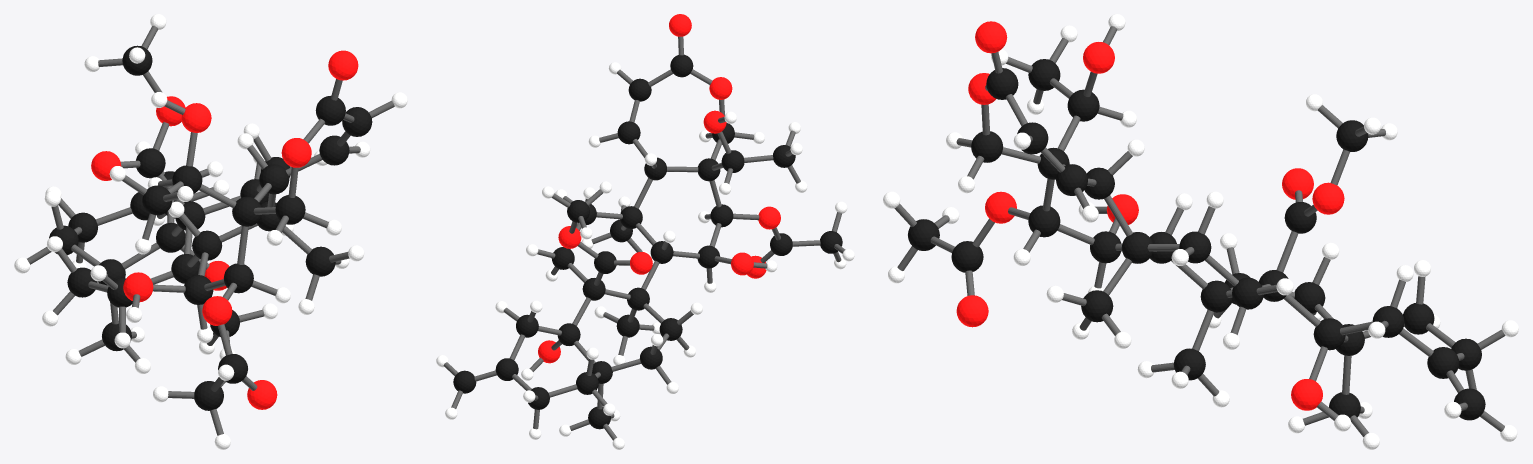
Rendered from molecule.glb.
The picture shows the model from 3 angles, left to right: view 1: azimuth 30°, elevation 25°; view 2: azimuth 150°, elevation 25°; view 3: azimuth 270°, elevation 25°; orthographic projection. The views are drawn at different scales.
Visible parts, largest first — view 1: geometry_25, geometry_23, geometry_14, geometry_21, geometry_34, geometry_24, geometry_17, geometry_30, geometry_12, geometry_27, geometry_16, geometry_28 (+22 smaller); view 2: geometry_12, geometry_25, geometry_23, geometry_35, geometry_24, geometry_14, geometry_26, geometry_0, geometry_27; view 3: geometry_17, geometry_25, geometry_36, geometry_21, geometry_39, geometry_15, geometry_1, geometry_14, geometry_24, geometry_8, geometry_3, geometry_29 (+21 smaller).
Part boxes in pixels (box(x1,y1,x2,y2)): geometry_25: box(328, 50, 358, 80); geometry_23: box(281, 138, 311, 167); geometry_14: box(202, 296, 232, 325); geometry_21: box(181, 103, 211, 132); geometry_34: box(136, 148, 165, 178); geometry_24: box(315, 96, 345, 125); geometry_17: box(247, 380, 277, 409); geometry_30: box(305, 246, 335, 276); geometry_12: box(123, 272, 153, 301); geometry_27: box(319, 135, 349, 165); geometry_16: box(194, 381, 223, 410); geometry_28: box(259, 164, 289, 194); geometry_12: box(731, 252, 753, 275); geometry_25: box(669, 14, 691, 36); geometry_23: box(709, 77, 732, 99); geometry_35: box(630, 252, 652, 274); geometry_24: box(670, 54, 693, 77); geometry_14: box(758, 206, 780, 229); geometry_26: box(628, 78, 651, 101); geometry_0: box(453, 370, 476, 393); geometry_27: box(617, 121, 640, 144); geometry_17: box(956, 295, 988, 327); geometry_25: box(975, 21, 1007, 53); geometry_36: box(1312, 182, 1344, 214); geometry_21: box(1083, 42, 1114, 73); geometry_39: box(1291, 379, 1322, 410); geometry_15: box(951, 241, 983, 272); geometry_1: box(1427, 347, 1459, 378); geometry_14: box(985, 191, 1016, 223); geometry_24: box(986, 68, 1018, 99); geometry_8: box(1200, 280, 1232, 312); geometry_3: box(1403, 303, 1434, 334); geometry_29: box(1121, 232, 1153, 263).
Bounding box in the file's own units: 0.1541 × 0.1983 × 0.257.
